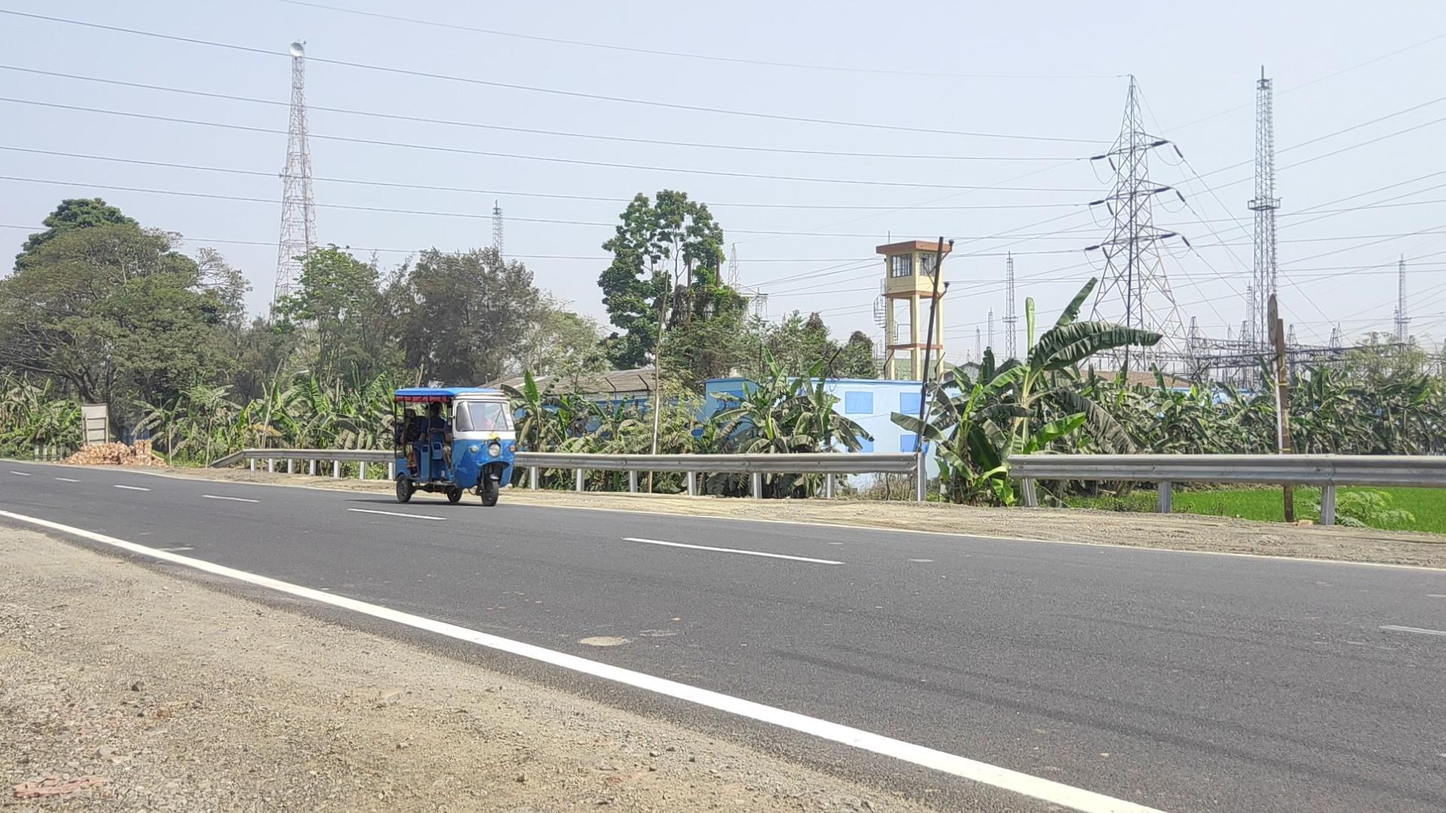Auto: (392, 387, 516, 507)
